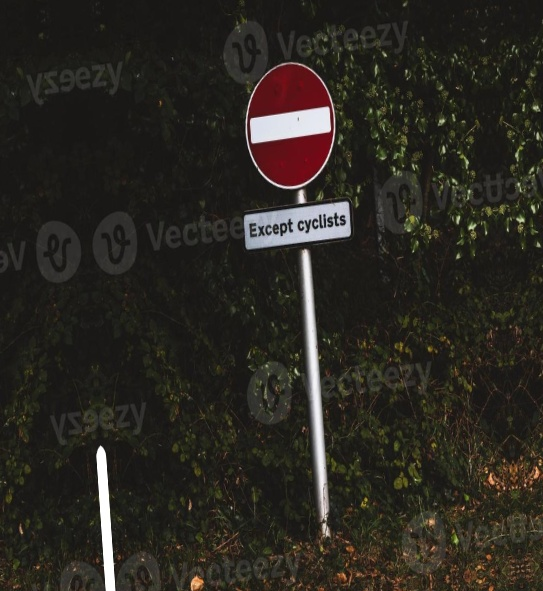No entry: (241, 63, 342, 189)
